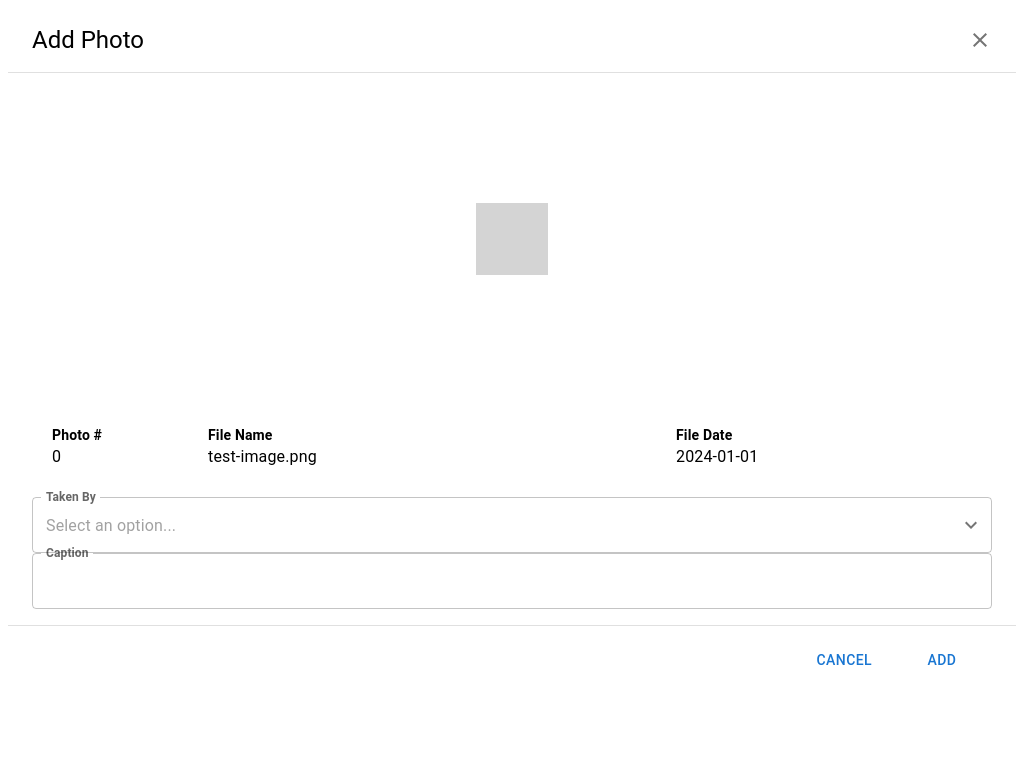
ImageModal Component › validates required fields
The image size is (1024, 768).
Note: Try to submit without required fields
Click the button "Add" at (942, 661), box x1=892 y1=642 x2=992 y2=679
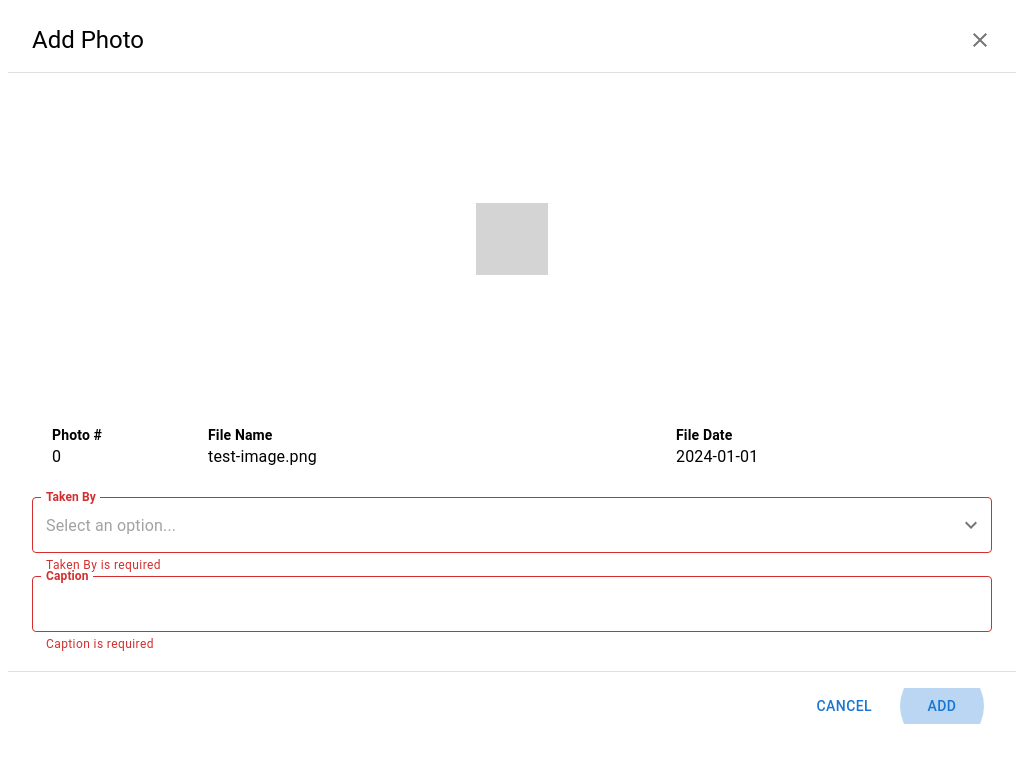
Expected: the text "Taken By is required" is shown, x1=46 y1=558 x2=161 y2=572
Expected: the text "Caption is required" is shown, x1=46 y1=637 x2=154 y2=651
